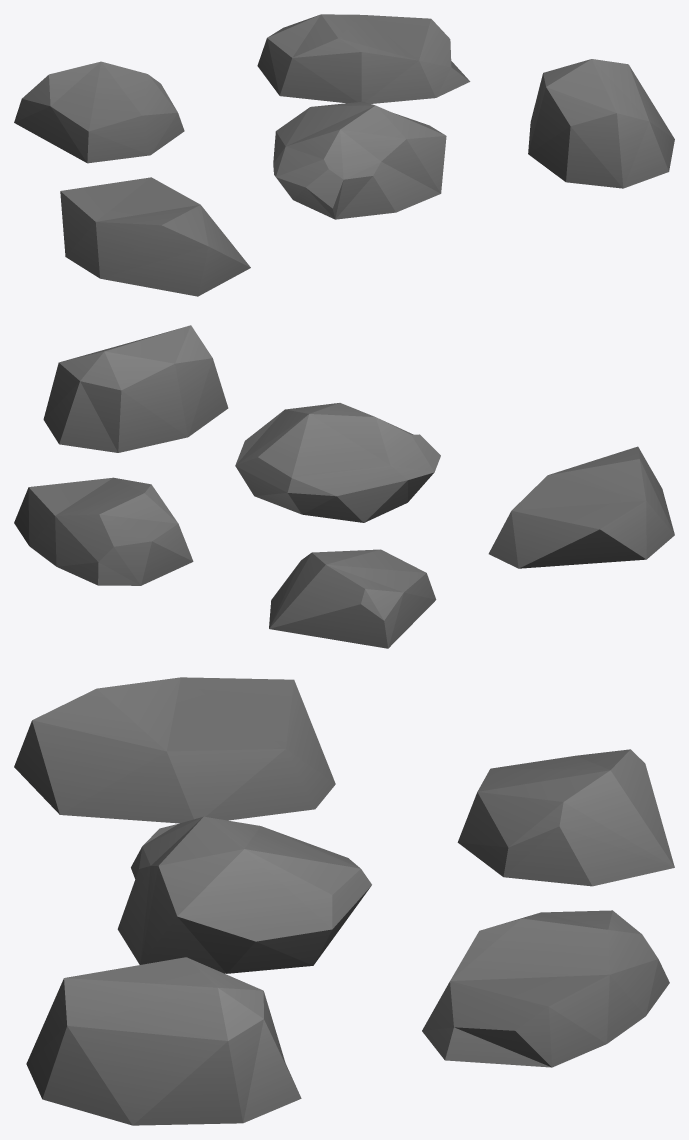
The model's file is Env_Pebbles_02.obj.
3 views of the same model, one above another, from view 1: azimuth 30°, elevation 25°; view 2: azimuth 150°, elevation 25°; view 3: azimuth 270°, elevation 25° (orthographic). The views are drawn at different scales.
Parts seen in each view (by area): view 1: Env_Pebbles_02; view 2: Env_Pebbles_02; view 3: Env_Pebbles_02.
Part boxes in pixels (<box>): Env_Pebbles_02: <box>14,14,674,296</box>; Env_Pebbles_02: <box>14,325,674,648</box>; Env_Pebbles_02: <box>14,677,674,1125</box>.
Bounding box in the file's own units: 0.5379 × 0.0635 × 0.3764.
1 material, 1 textured.
